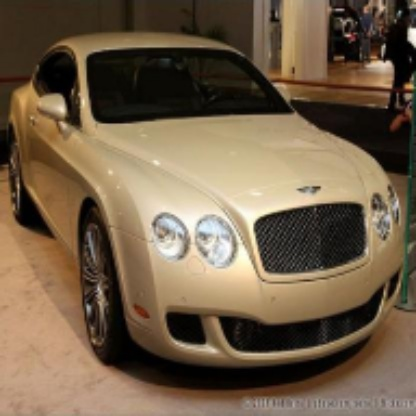Vehicle: (5, 29, 406, 380)
